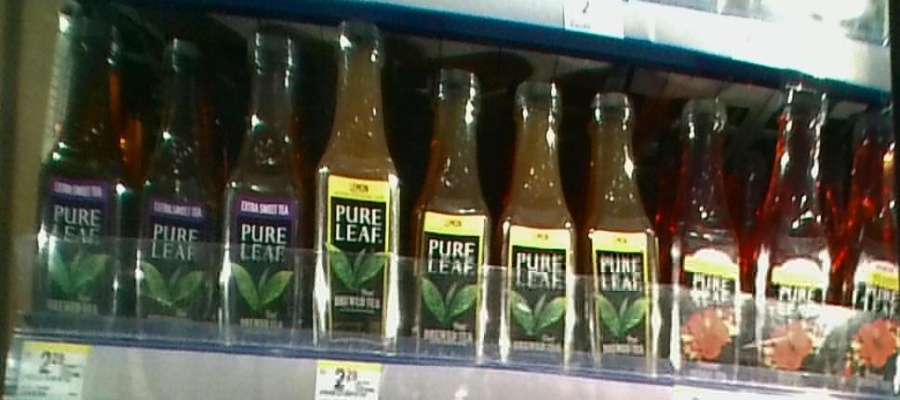bottle: (315, 18, 409, 353), (36, 4, 127, 337), (222, 27, 308, 348), (133, 26, 218, 343), (414, 49, 494, 359), (584, 83, 663, 375), (502, 66, 578, 362), (757, 79, 833, 370), (668, 90, 743, 380), (844, 102, 895, 389)
